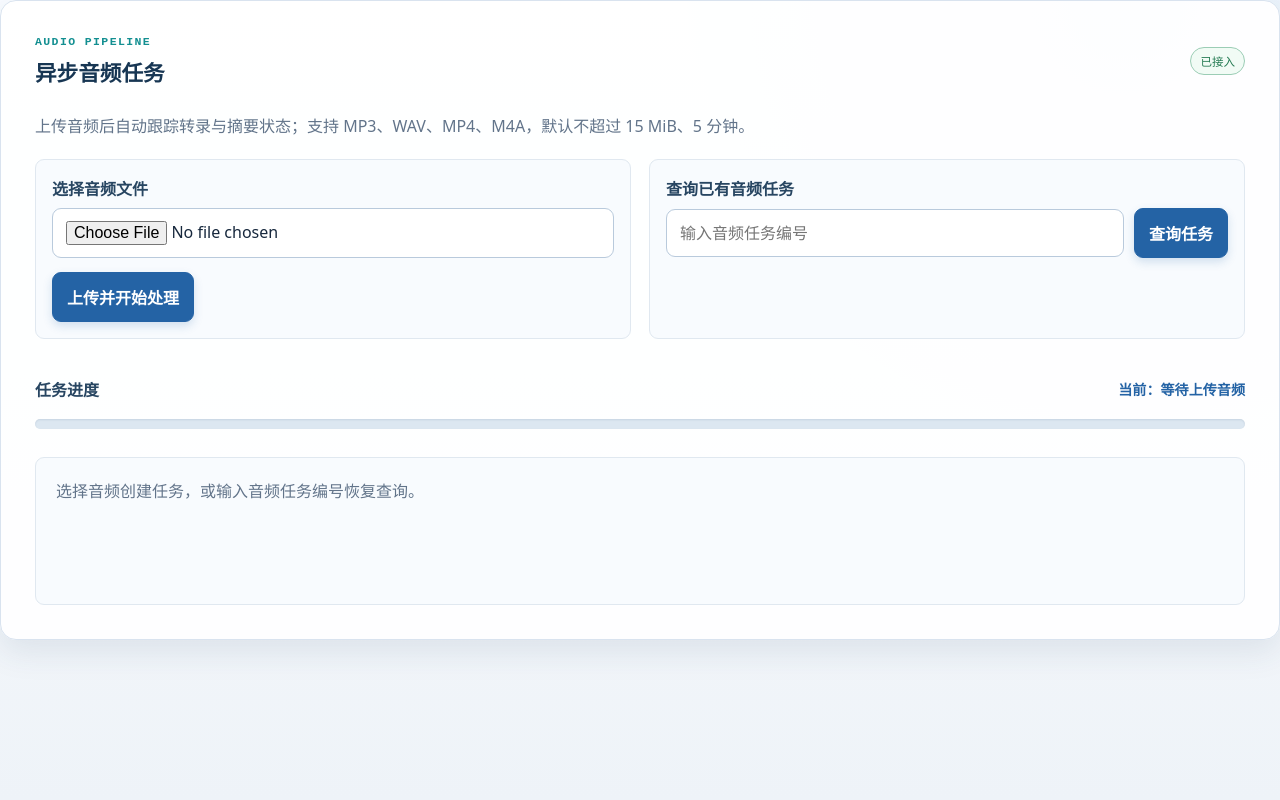
it: AudioJobPanel › does not upload without a file
Click the button "上传并开始处理": point(123, 297) [52,272,194,322]
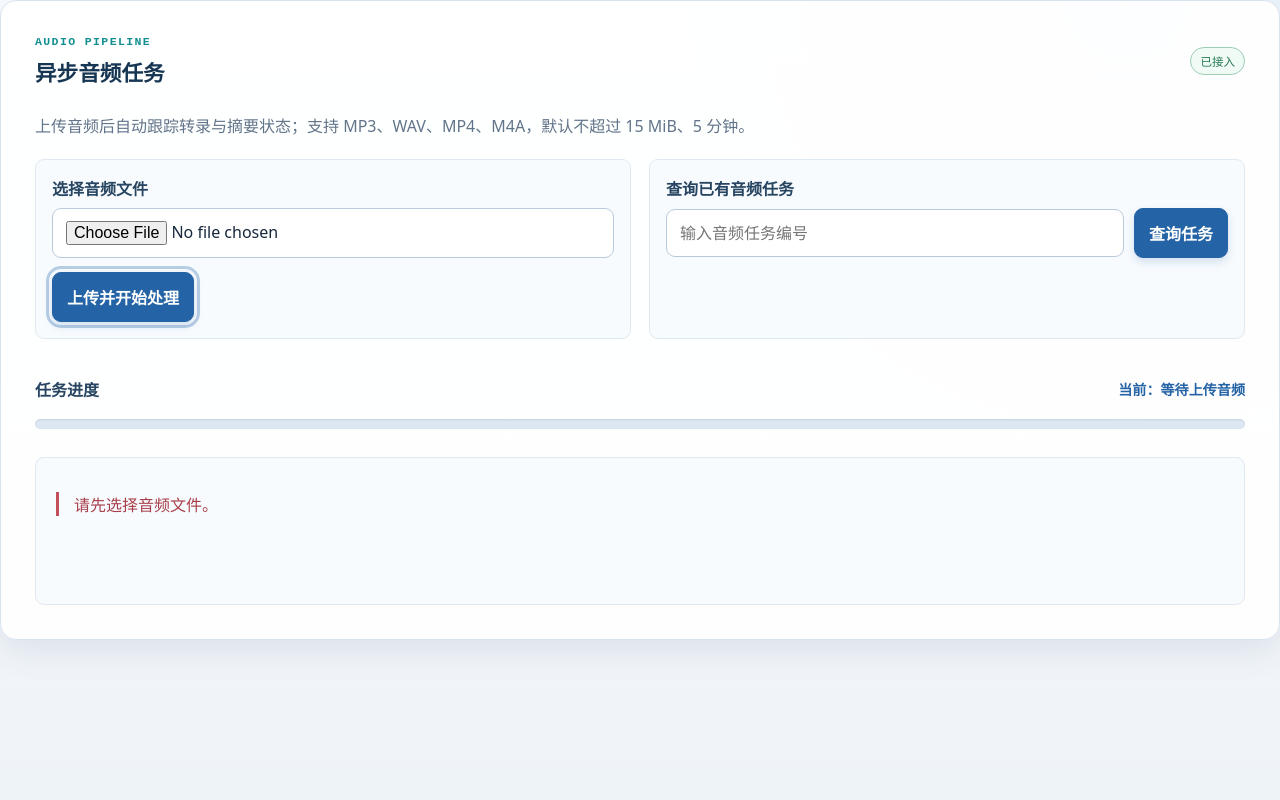
Check: the message reads "请先选择音频文件。", box [74,494,218,516]
